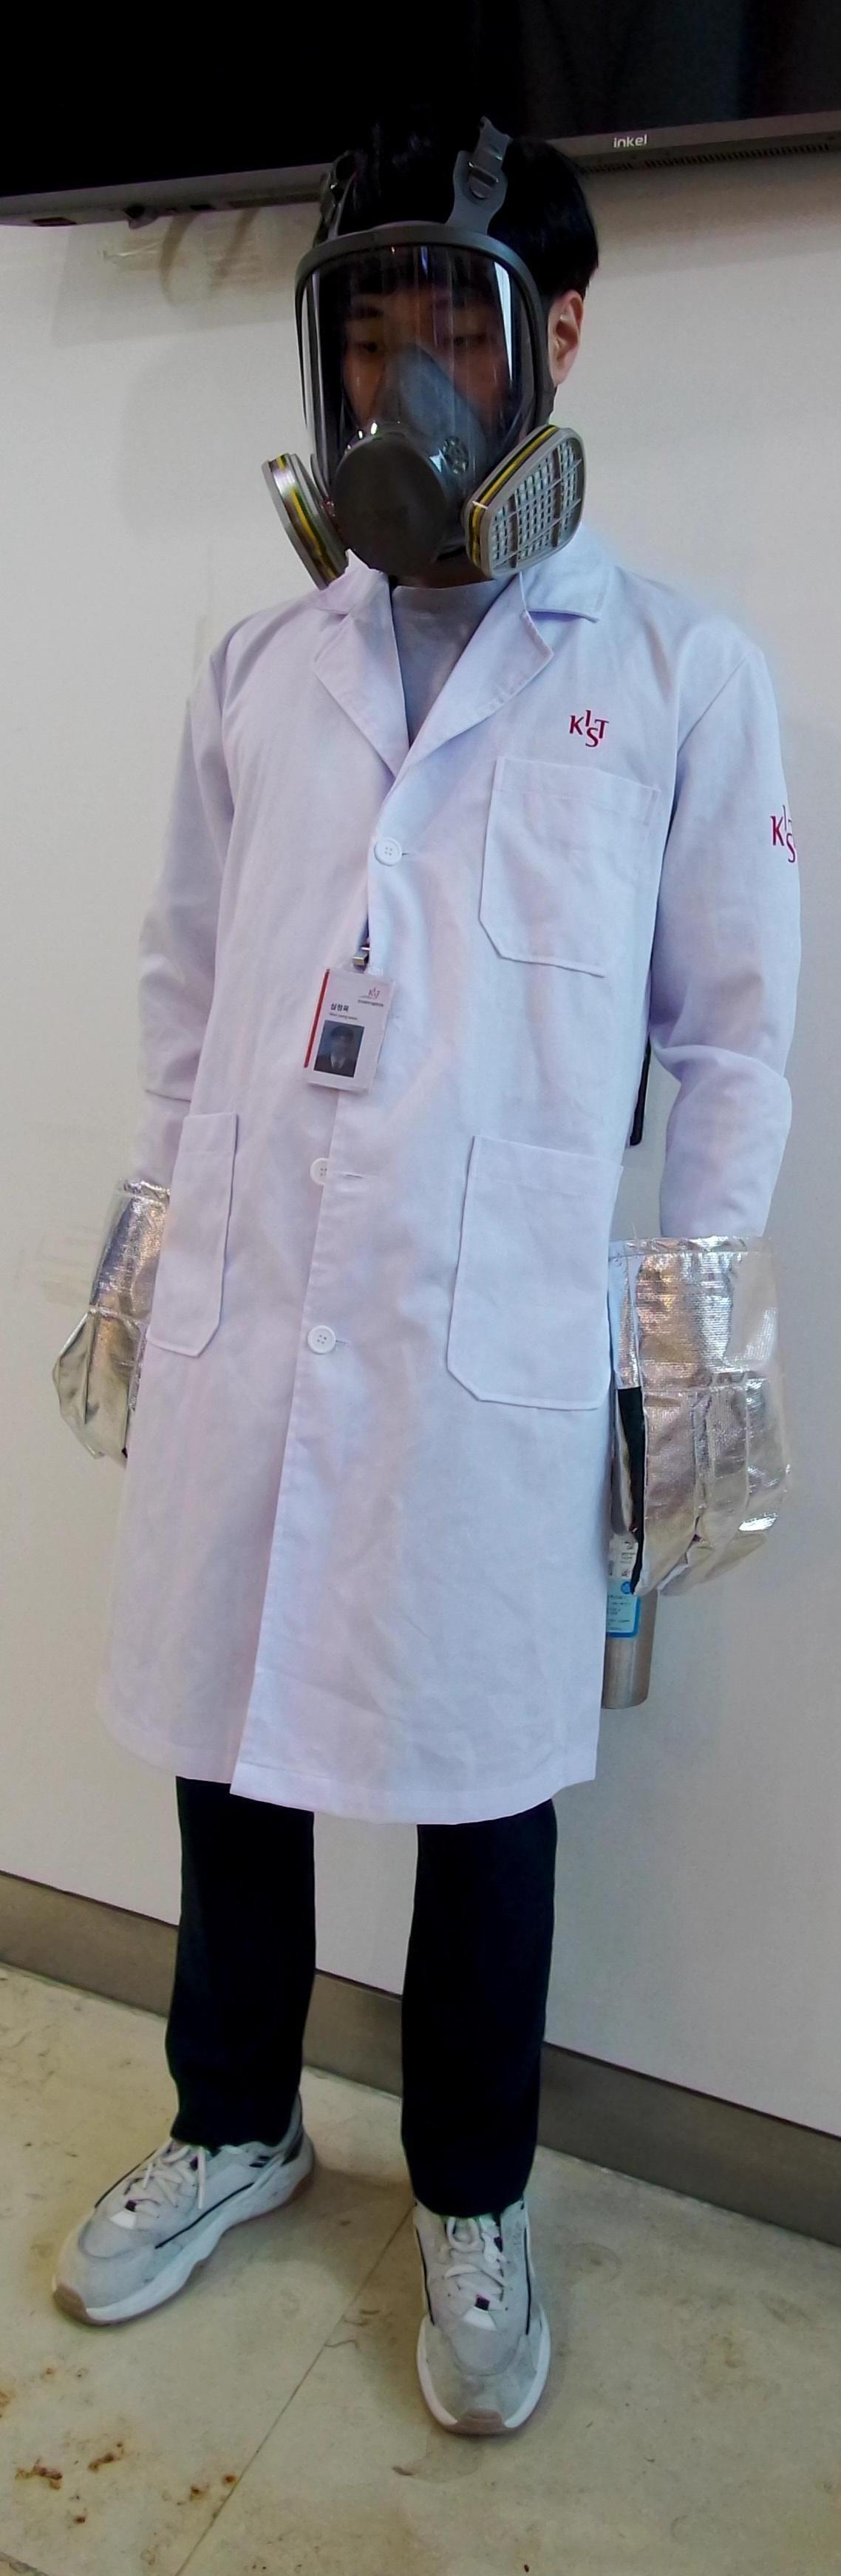lab_coat: (149, 600, 660, 1838)
